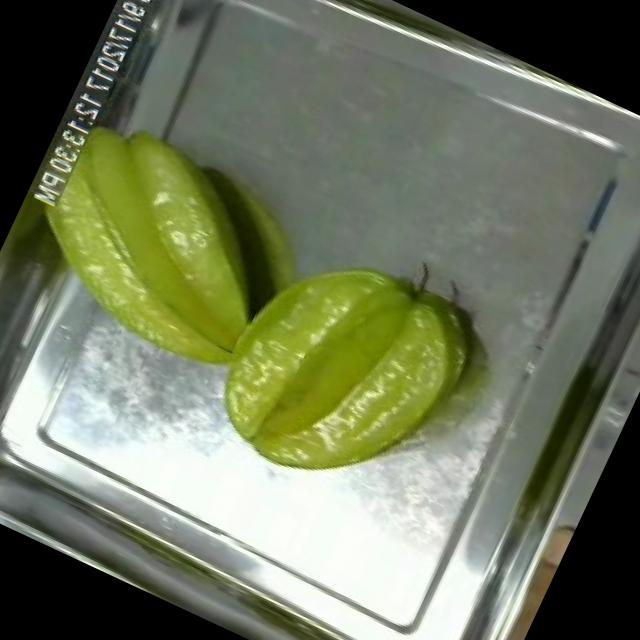fruit: (183, 212, 495, 530), (0, 89, 320, 392)
